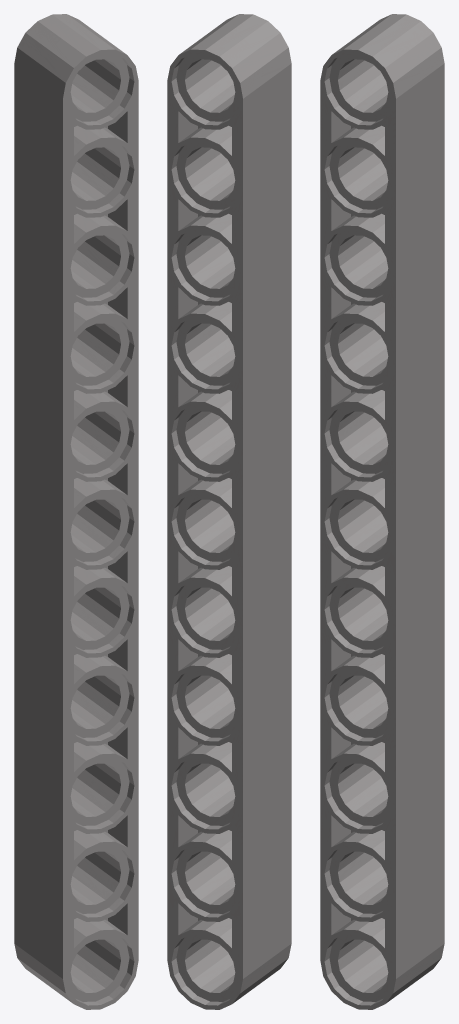
The model's file is beam_11M.dae.
3 views of the same model, side by side, from view 1: azimuth 30°, elevation 25°; view 2: azimuth 150°, elevation 25°; view 3: azimuth 330°, elevation 25° (orthographic).
Visible parts, largest first — view 1: node; view 2: node; view 3: node.
Boxes of the visible parts, x1,y1,x2,y2 form: node: (14,14,138,1009); node: (167,14,291,1009); node: (320,14,444,1009).
Bounding box in the file's own units: 18 × 218 × 20.
1 material, 1 textured.
